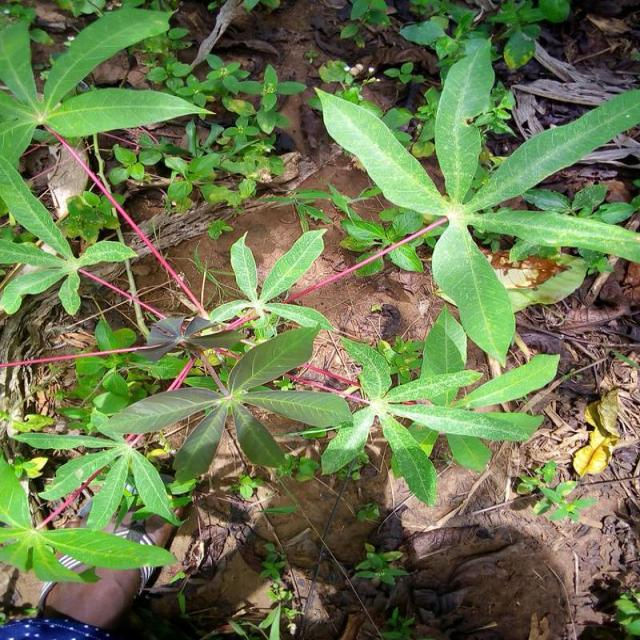cassava leaf: (313, 36, 640, 364), (314, 84, 448, 217), (432, 218, 517, 364), (434, 36, 496, 203)
